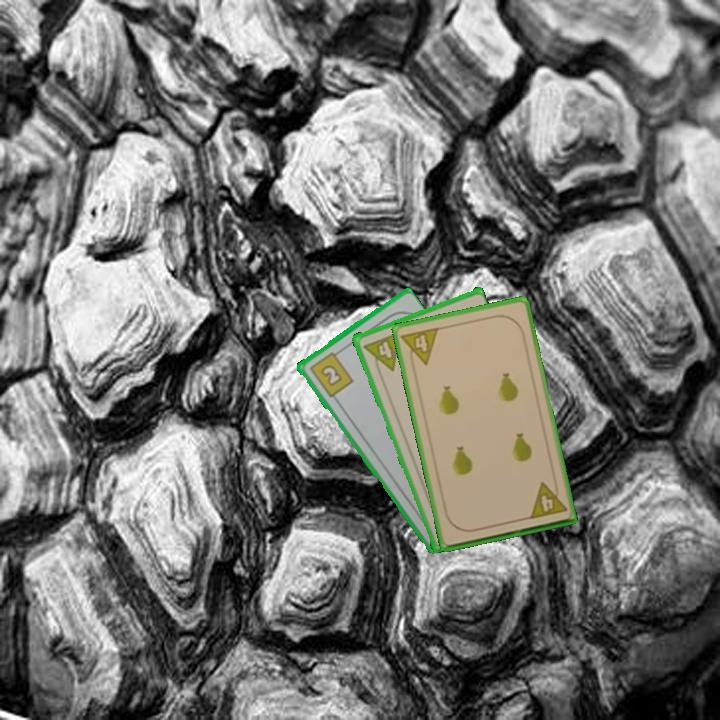2b: (306, 347, 356, 400)
4p: (359, 329, 402, 377), (398, 324, 442, 370), (525, 477, 569, 522)
